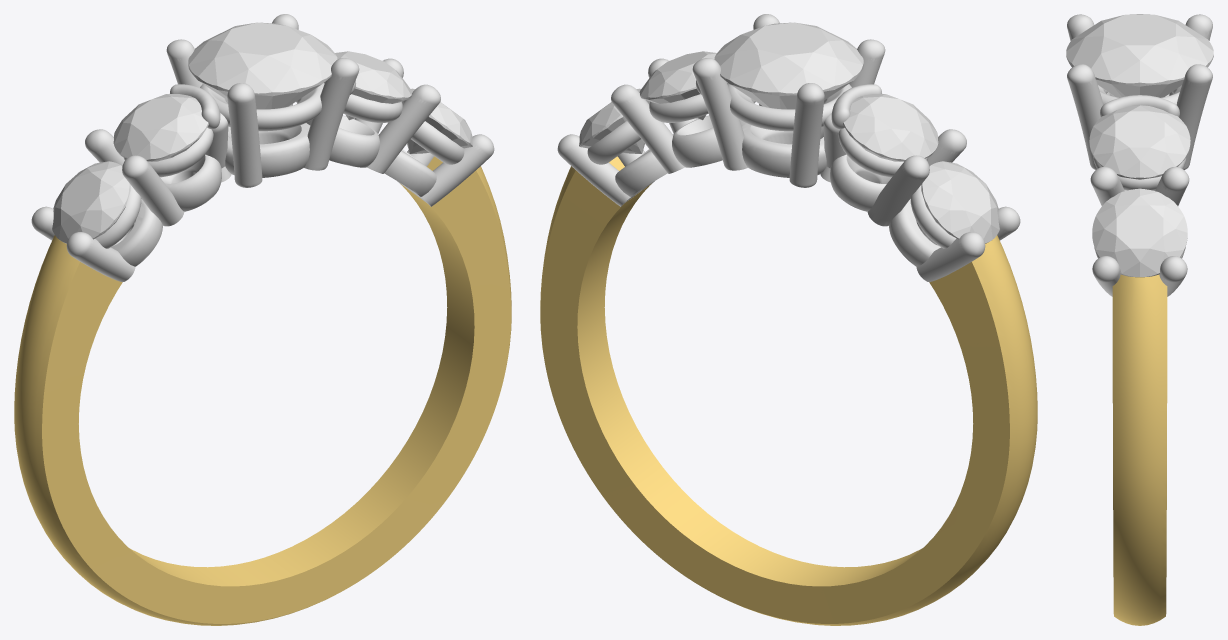
The model's file is Jeremy5stone.glb.
3 renders of one model, left to right at view 1: azimuth 30°, elevation 25°; view 2: azimuth 150°, elevation 25°; view 3: azimuth 270°, elevation 25°, orthographic.
Parts seen in each view (by area): view 1: Jeremy 5 stone YG for 3d model, Jeremy 5 stone dia for 3d model.004, Jeremy 5 stone dia for 3d model.003, Jeremy 5 stone dia for 3d model.002, Jeremy 5 stone PT for 3d model.011, Jeremy 5 stone PT for 3d model.012, Jeremy 5 stone PT for 3d model.015, Jeremy 5 stone PT for 3d model.022, Jeremy 5 stone dia for 3d model.001, Jeremy 5 stone PT for 3d model.007, Jeremy 5 stone PT for 3d model.008, Jeremy 5 stone PT for 3d model.014 (+14 smaller); view 2: Jeremy 5 stone YG for 3d model, Jeremy 5 stone dia for 3d model.004, Jeremy 5 stone dia for 3d model.003, Jeremy 5 stone dia for 3d model.002, Jeremy 5 stone PT for 3d model.010, Jeremy 5 stone PT for 3d model.013, Jeremy 5 stone PT for 3d model.015, Jeremy 5 stone PT for 3d model.021, Jeremy 5 stone dia for 3d model.001, Jeremy 5 stone PT for 3d model.024, Jeremy 5 stone PT for 3d model.008, Jeremy 5 stone PT for 3d model.014 (+14 smaller); view 3: Jeremy 5 stone YG for 3d model, Jeremy 5 stone dia for 3d model.004, Jeremy 5 stone dia for 3d model, Jeremy 5 stone dia for 3d model.001, Jeremy 5 stone PT for 3d model.010, Jeremy 5 stone PT for 3d model.011, Jeremy 5 stone PT for 3d model.020, Jeremy 5 stone PT for 3d model.021, Jeremy 5 stone PT for 3d model.022, Jeremy 5 stone PT for 3d model, Jeremy 5 stone PT for 3d model.001, Jeremy 5 stone PT for 3d model.026 (+3 smaller).
Boxes of the visible parts, x1=… form: Jeremy 5 stone YG for 3d model: x1=14, y1=156, x2=511, y2=625; Jeremy 5 stone dia for 3d model.004: x1=188, y1=22, x2=337, y2=109; Jeremy 5 stone dia for 3d model.003: x1=113, y1=94, x2=208, y2=161; Jeremy 5 stone dia for 3d model.002: x1=52, y1=161, x2=130, y2=243; Jeremy 5 stone PT for 3d model.011: x1=304, y1=58, x2=359, y2=170; Jeremy 5 stone PT for 3d model.012: x1=227, y1=83, x2=262, y2=187; Jeremy 5 stone PT for 3d model.015: x1=225, y1=123, x2=310, y2=177; Jeremy 5 stone PT for 3d model.022: x1=367, y1=84, x2=440, y2=173; Jeremy 5 stone dia for 3d model.001: x1=335, y1=51, x2=412, y2=120; Jeremy 5 stone PT for 3d model.007: x1=122, y1=155, x2=184, y2=226; Jeremy 5 stone PT for 3d model.008: x1=160, y1=154, x2=221, y2=211; Jeremy 5 stone PT for 3d model.014: x1=200, y1=83, x2=324, y2=131; Jeremy 5 stone YG for 3d model: x1=540, y1=156, x2=1037, y2=625; Jeremy 5 stone dia for 3d model.004: x1=714, y1=22, x2=863, y2=109; Jeremy 5 stone dia for 3d model.003: x1=843, y1=94, x2=938, y2=161; Jeremy 5 stone dia for 3d model.002: x1=921, y1=161, x2=999, y2=243; Jeremy 5 stone PT for 3d model.010: x1=692, y1=58, x2=747, y2=170; Jeremy 5 stone PT for 3d model.013: x1=789, y1=83, x2=824, y2=187; Jeremy 5 stone PT for 3d model.015: x1=741, y1=123, x2=826, y2=177; Jeremy 5 stone PT for 3d model.021: x1=611, y1=84, x2=684, y2=173; Jeremy 5 stone dia for 3d model.001: x1=639, y1=51, x2=716, y2=120; Jeremy 5 stone PT for 3d model.024: x1=867, y1=155, x2=929, y2=226; Jeremy 5 stone PT for 3d model.008: x1=830, y1=154, x2=891, y2=211; Jeremy 5 stone PT for 3d model.014: x1=727, y1=83, x2=851, y2=131; Jeremy 5 stone YG for 3d model: x1=1112, y1=274, x2=1167, y2=625; Jeremy 5 stone dia for 3d model.004: x1=1066, y1=14, x2=1213, y2=97; Jeremy 5 stone dia for 3d model: x1=1092, y1=188, x2=1187, y2=277; Jeremy 5 stone dia for 3d model.001: x1=1089, y1=104, x2=1190, y2=179; Jeremy 5 stone PT for 3d model.010: x1=1176, y1=64, x2=1212, y2=169; Jeremy 5 stone PT for 3d model.011: x1=1067, y1=64, x2=1103, y2=169; Jeremy 5 stone PT for 3d model.020: x1=1100, y1=95, x2=1179, y2=117; Jeremy 5 stone PT for 3d model.021: x1=1155, y1=166, x2=1189, y2=205; Jeremy 5 stone PT for 3d model.022: x1=1090, y1=166, x2=1124, y2=205; Jeremy 5 stone PT for 3d model: x1=1159, y1=256, x2=1187, y2=296; Jeremy 5 stone PT for 3d model.001: x1=1092, y1=256, x2=1120, y2=296; Jeremy 5 stone PT for 3d model.026: x1=1093, y1=157, x2=1186, y2=190.
Size of the model in its own units: 20.3 by 23.01 by 5.4.
